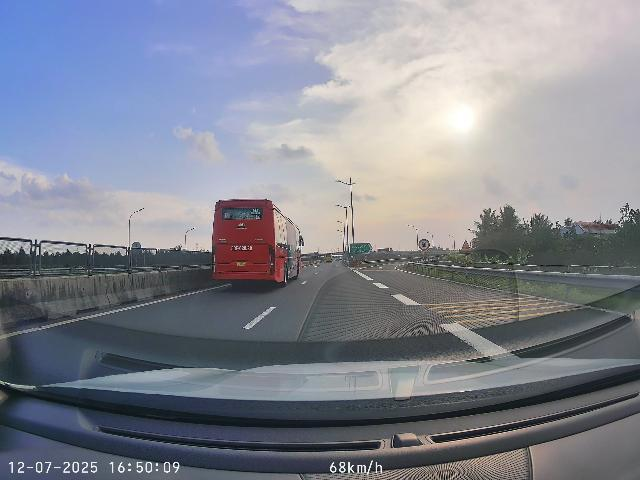127-toc-do-toi-da-50: (419, 239, 430, 251)
